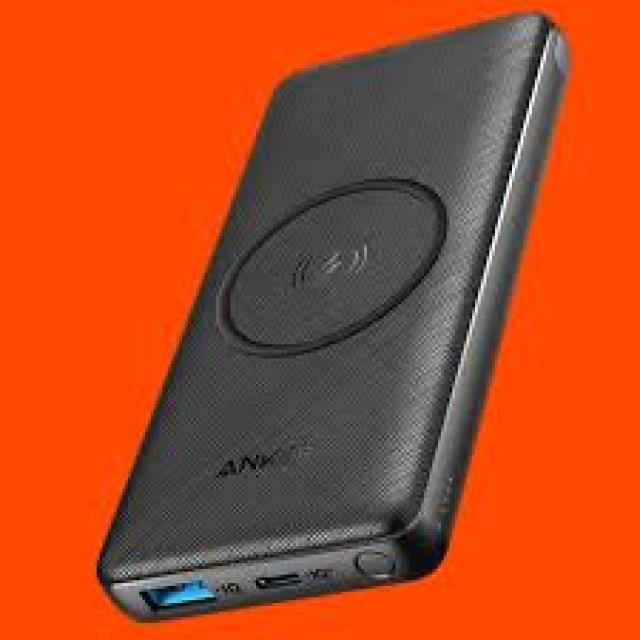power_bank: (97, 14, 573, 626)
